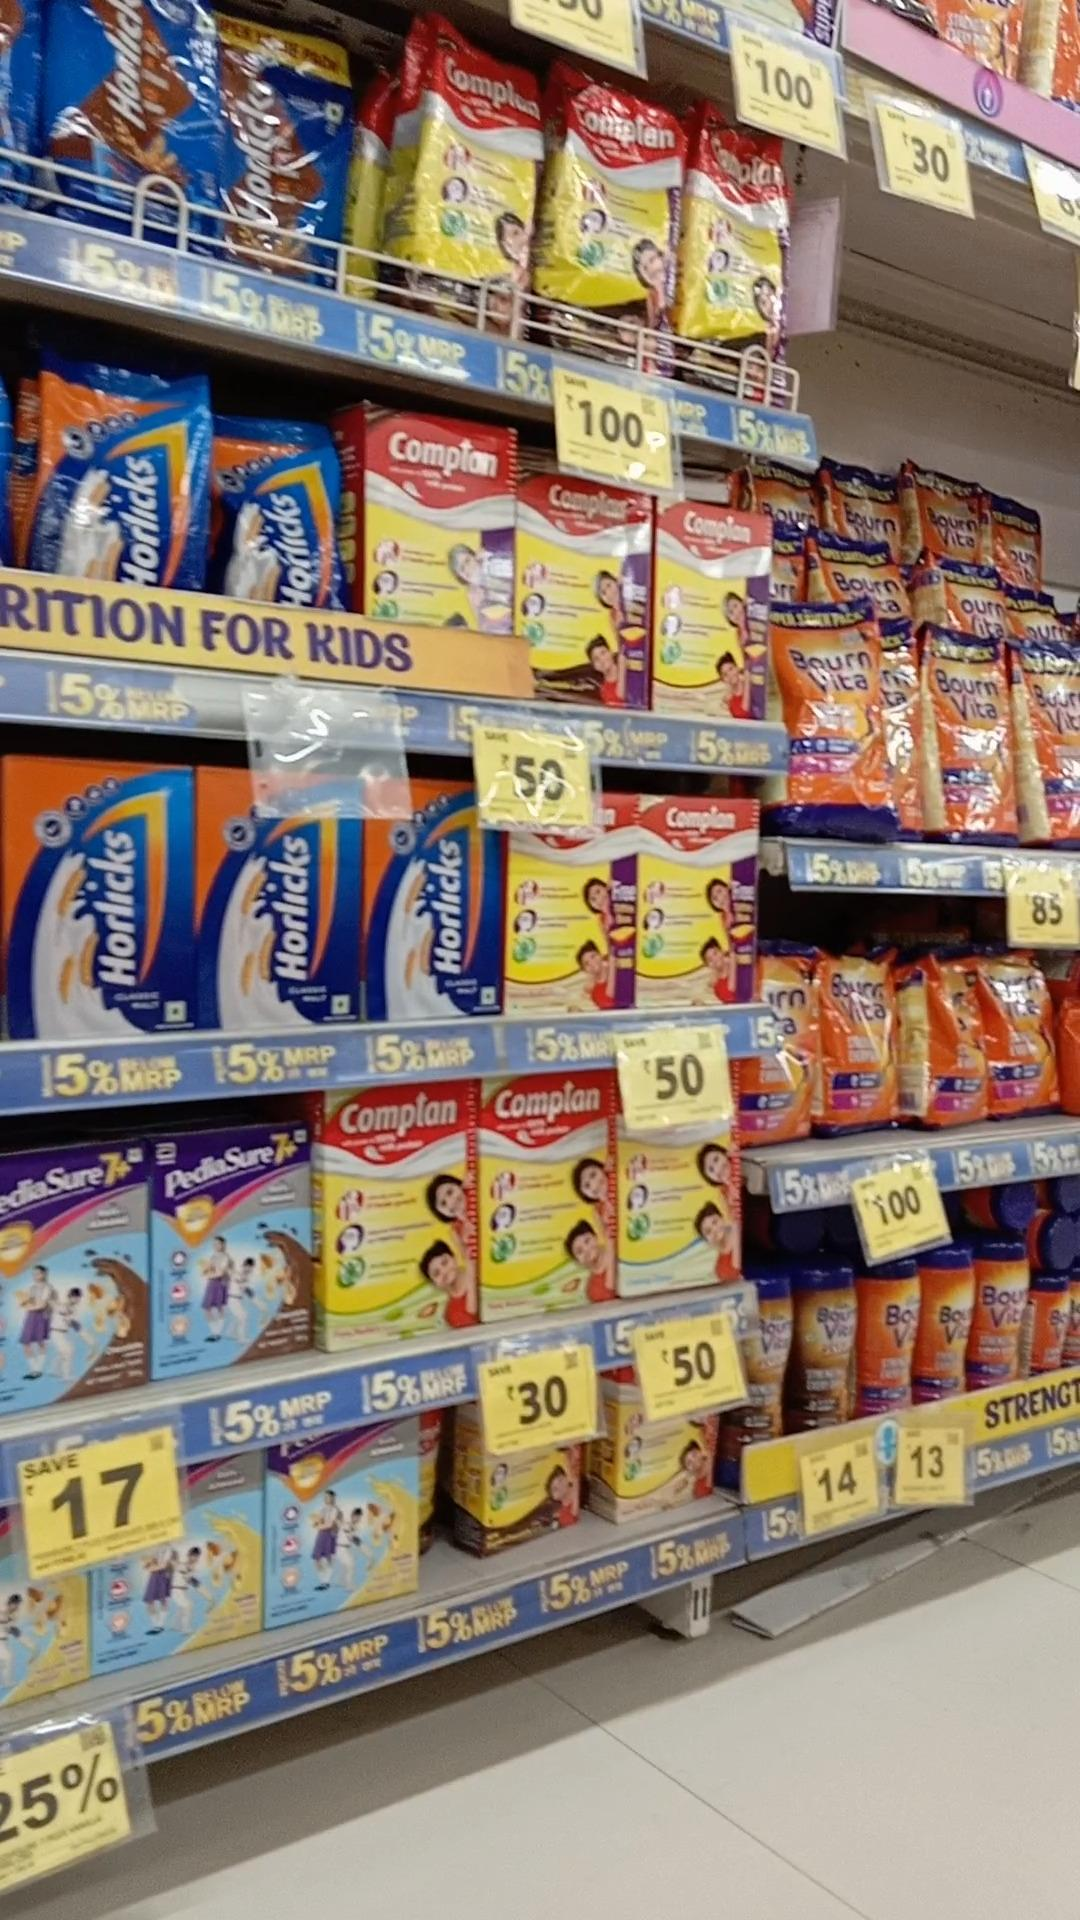BOURN_VITA_1_KG_POUCH: (782, 603, 882, 831), (923, 628, 1017, 847), (1019, 634, 1080, 840), (916, 468, 981, 558), (832, 464, 897, 543), (988, 493, 1043, 578), (818, 542, 893, 593)
BOURN_VITA_200_G_JAR: (1033, 1270, 1067, 1378)
BOURN_VITA_500_G_JAR: (862, 1259, 922, 1416), (924, 1245, 978, 1412), (980, 1241, 1027, 1387)
BOURN_VITA_500_G_POUCH: (827, 945, 899, 1137), (988, 949, 1059, 1120), (760, 942, 818, 1143), (926, 945, 985, 1130)
BOURN_VITA_FIVE_STAR_MAGIC_500_G_JAR: (796, 1266, 856, 1427), (744, 1271, 794, 1449)
COMPLAN_CHOCOLATE_500_GMS_PACK: (361, 406, 510, 628), (521, 476, 647, 708)
COMPLAN_KESAR_BADAM_500_GMS_PACK: (638, 796, 758, 1002), (510, 823, 633, 1017), (659, 500, 766, 716)
COMPLAN_PISTA_BADAM_500_GMS_PACK: (320, 1091, 469, 1338), (477, 1079, 618, 1307)
COMPLAN_RC_POUCH_700_GMS_12: (556, 65, 684, 369), (425, 26, 537, 327), (692, 115, 790, 393)
HORLICK_CHOCOLATE_1_KG_PACK: (55, 0, 215, 245), (215, 16, 343, 281)
HORLICK_CLASSIC_MALT_500_G_PACK: (3, 756, 187, 1039), (196, 769, 359, 1029), (368, 781, 500, 1017)
HORLICK_CLASSIC_MALT_750_G_POUCH: (41, 356, 210, 597), (216, 418, 338, 603)
PEDIASURE_7_PLUS_CHOCOLATE_400_G_PACK: (0, 1146, 149, 1404), (152, 1134, 310, 1369)
